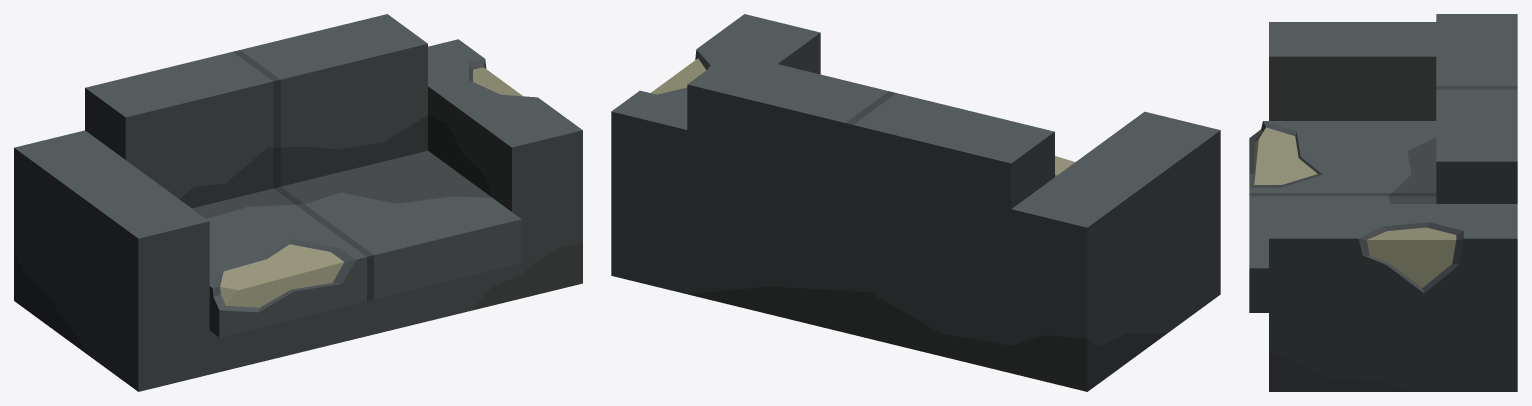
Rendered from AI_Prop_Couch_Damaged_02.fbx.
3 renders of one model, left to right at view 1: azimuth 30°, elevation 25°; view 2: azimuth 150°, elevation 25°; view 3: azimuth 270°, elevation 25°, orthographic. The views are drawn at different scales.
Visible parts, largest first — view 1: AI_Prop_Couch_Damaged_02; view 2: AI_Prop_Couch_Damaged_02; view 3: AI_Prop_Couch_Damaged_02.
Boxes of the visible parts, <box> form: AI_Prop_Couch_Damaged_02: <box>14,14,582,391</box>; AI_Prop_Couch_Damaged_02: <box>611,14,1220,391</box>; AI_Prop_Couch_Damaged_02: <box>1249,14,1517,391</box>.
Bounding box in the file's own units: 3.66 × 1.54 × 1.92.
